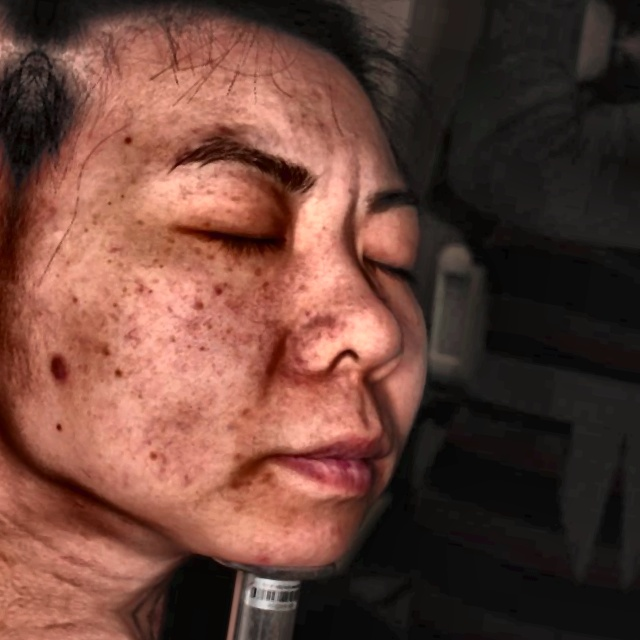comedone: (40, 351, 78, 391), (238, 539, 276, 570)
